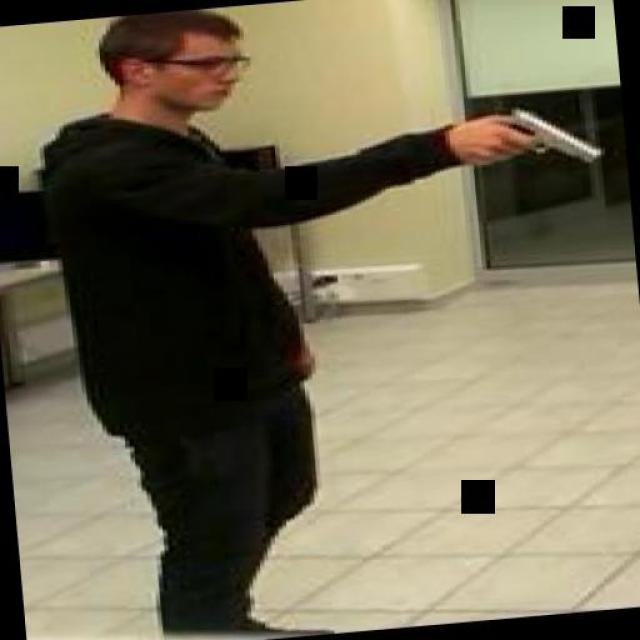gun: (478, 99, 598, 172)
